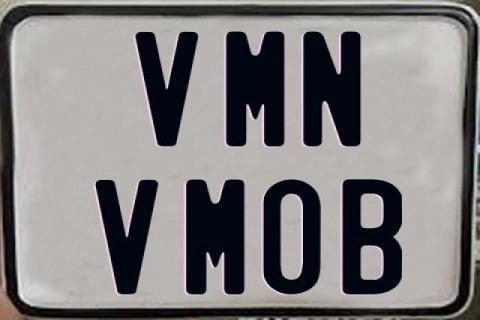0: (262, 178, 326, 298)
B: (342, 179, 402, 296)
M: (186, 179, 246, 299), (226, 32, 285, 150)
N: (300, 30, 358, 150)
V: (95, 179, 161, 299), (132, 32, 199, 149)
